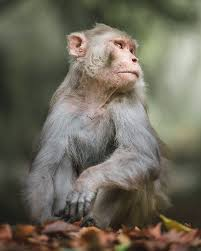monkey: (35, 15, 171, 228)
